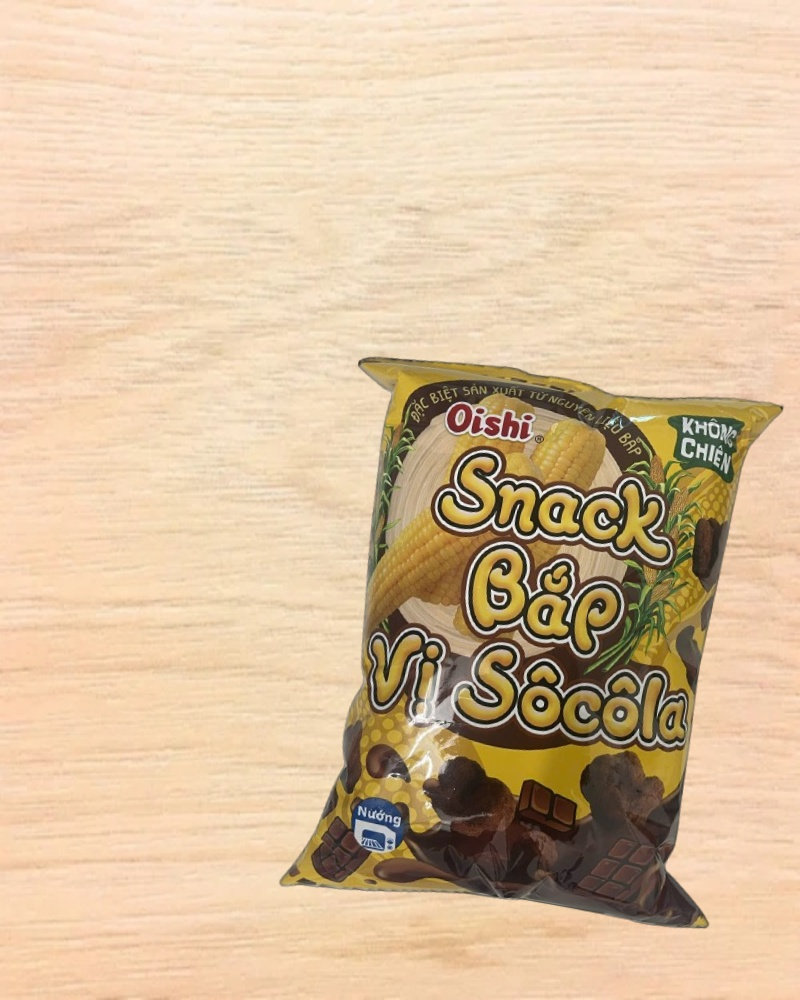Snack socola: (272, 336, 800, 949)
